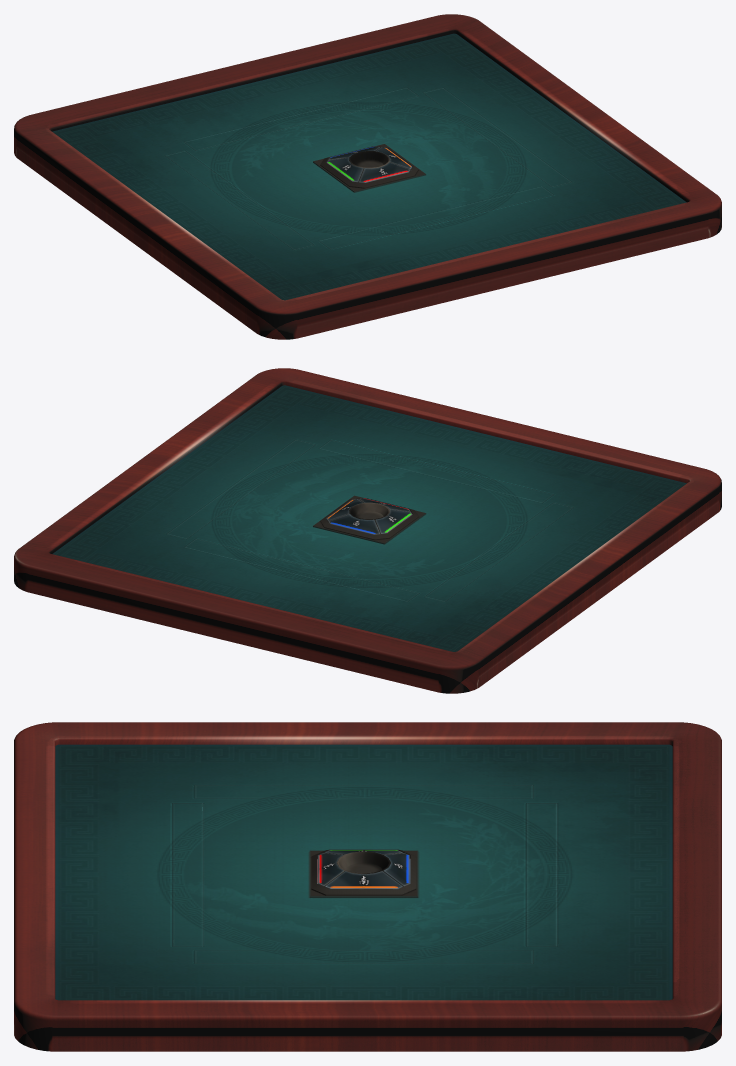
The model's file is majiangzhuo.FBX.
3 views of the same model, one above another, from view 1: azimuth 30°, elevation 25°; view 2: azimuth 150°, elevation 25°; view 3: azimuth 270°, elevation 25° (orthographic). The views are drawn at different scales.
Parts seen in each view (by area): view 1: zhuo, gai, DNXB, DNXB_dong; view 2: zhuo, gai, DNXB, DNXB_xi; view 3: zhuo, gai, DNXB, DNXB_nan, DNXB_xi, DNXB_dong.
Part boxes in pixels (x1=…): zhuo: x1=14, y1=14, x2=721, y2=339; gai: x1=165, y1=87, x2=571, y2=249; DNXB: x1=313, y1=144, x2=426, y2=192; DNXB_dong: x1=359, y1=162, x2=410, y2=182; zhuo: x1=14, y1=368, x2=721, y2=693; gai: x1=167, y1=439, x2=573, y2=601; DNXB: x1=313, y1=495, x2=426, y2=544; DNXB_xi: x1=328, y1=514, x2=380, y2=534; zhuo: x1=14, y1=722, x2=721, y2=1051; gai: x1=172, y1=785, x2=557, y2=963; DNXB: x1=309, y1=849, x2=418, y2=897; DNXB_nan: x1=324, y1=871, x2=403, y2=888; DNXB_xi: x1=383, y1=853, x2=409, y2=886; DNXB_dong: x1=318, y1=853, x2=344, y2=886.
Bounding box in the file's own units: 99.22 × 6.46 × 100.
